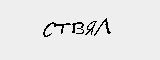В: (71, 19, 84, 35)
Л: (91, 17, 112, 36)
С: (42, 17, 56, 39)
Т: (54, 19, 71, 34)
Я: (83, 19, 97, 37)
